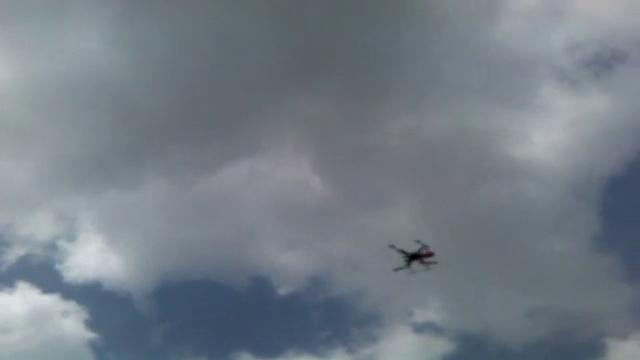drone: (384, 235, 439, 273)
